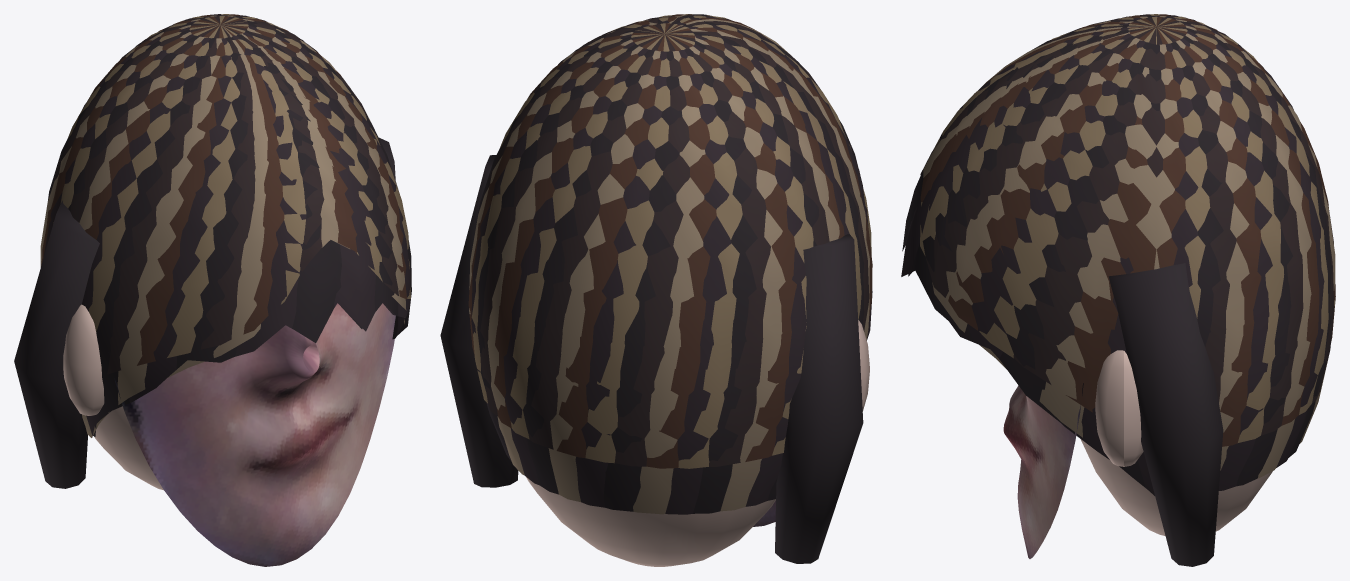
File: hydra-heads-visual.glb
3 views of the same model, side by side, from view 1: azimuth 30°, elevation 25°; view 2: azimuth 150°, elevation 25°; view 3: azimuth 270°, elevation 25° (orthographic). The views are drawn at different scales.
Visible parts, largest first — view 1: head_mesh_01, head_mesh_02, head_mesh_04, head_mesh_06, head_mesh_03, head_mesh_05; view 2: head_mesh_02, head_mesh_01, head_mesh_05, head_mesh_06, head_mesh_03, head_mesh_04; view 3: head_mesh_02, head_mesh_01, head_mesh_05, head_mesh_06, head_mesh_03, head_mesh_04.
Part boxes in pixels (x1=…): head_mesh_01: x1=48, y1=14, x2=398, y2=566; head_mesh_02: x1=14, y1=15, x2=411, y2=488; head_mesh_04: x1=43, y1=15, x2=410, y2=437; head_mesh_06: x1=40, y1=15, x2=406, y2=437; head_mesh_03: x1=53, y1=14, x2=410, y2=357; head_mesh_05: x1=41, y1=14, x2=407, y2=365; head_mesh_02: x1=440, y1=14, x2=864, y2=563; head_mesh_01: x1=479, y1=14, x2=869, y2=566; head_mesh_05: x1=468, y1=14, x2=872, y2=468; head_mesh_06: x1=469, y1=14, x2=869, y2=514; head_mesh_03: x1=471, y1=15, x2=871, y2=468; head_mesh_04: x1=471, y1=16, x2=872, y2=514; head_mesh_02: x1=902, y1=16, x2=1332, y2=566; head_mesh_01: x1=920, y1=14, x2=1334, y2=558; head_mesh_05: x1=920, y1=14, x2=1335, y2=446; head_mesh_06: x1=923, y1=15, x2=1335, y2=478; head_mesh_03: x1=920, y1=14, x2=1328, y2=442; head_mesh_04: x1=901, y1=15, x2=1333, y2=495.
Bounding box in the file's own units: 0.3813 × 0.48 × 0.3603.
3 materials, 1 textured.
